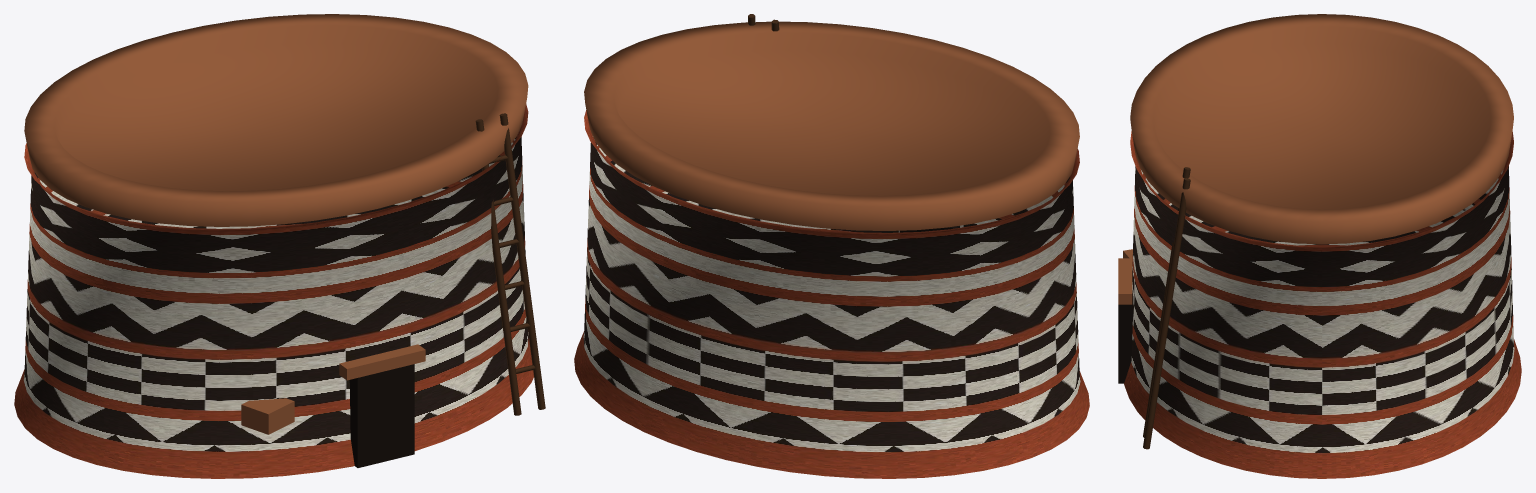
Rendered from maison-tiebele.glb.
The picture shows the model from 3 angles, left to right: view 1: azimuth 30°, elevation 25°; view 2: azimuth 150°, elevation 25°; view 3: azimuth 270°, elevation 25°; orthographic projection. The views are drawn at different scales.
Visible parts, largest first — view 1: maison-tiebele; view 2: maison-tiebele; view 3: maison-tiebele.
Boxes of the visible parts, box(x1,y1,x2,y2) form: maison-tiebele: box(14, 14, 545, 478); maison-tiebele: box(574, 14, 1089, 478); maison-tiebele: box(1118, 14, 1521, 478).
Size of the model in its own units: 4.37 by 2.47 by 3.44.
Materials: 4 (1 with a texture image).
